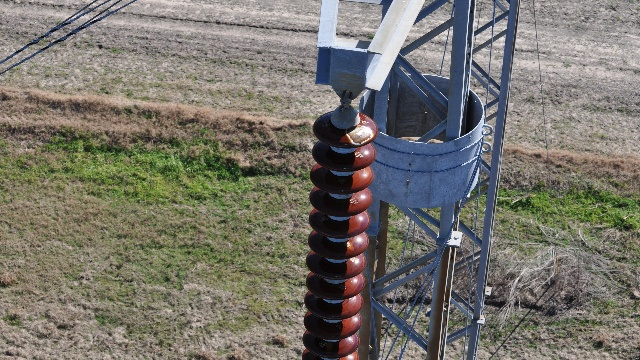insulator_unspecified: (302, 112, 378, 359)
pollution_flashover_local: (346, 123, 375, 146), (344, 240, 356, 252)
